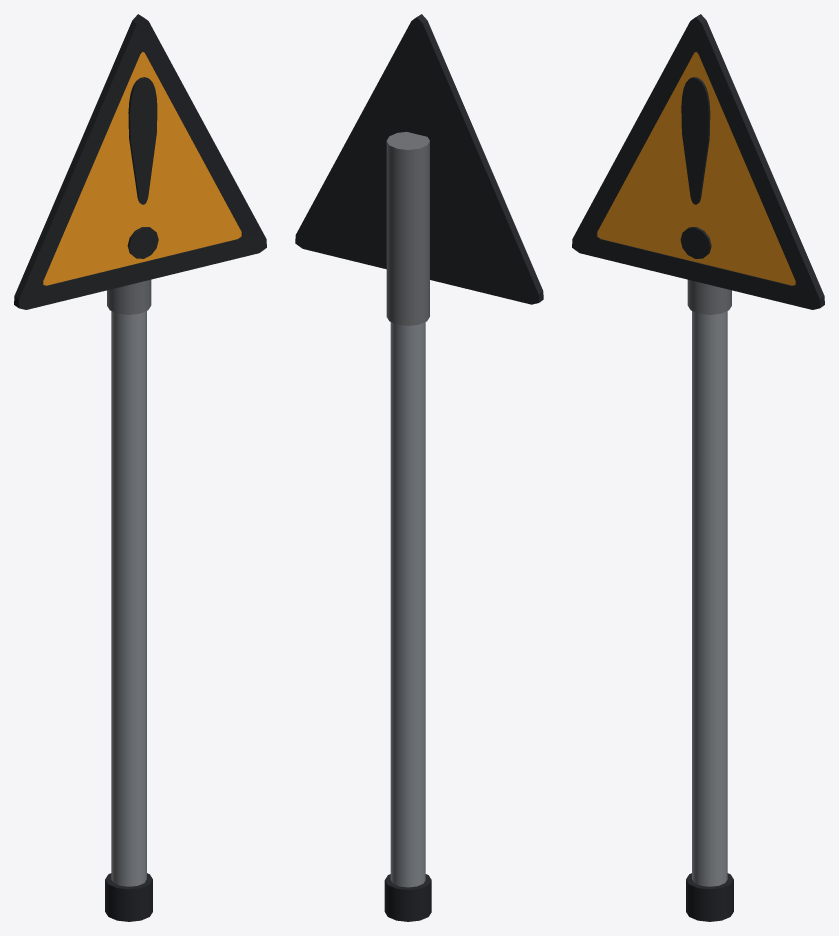
The model's file is TrafficSign_9.fbx.
3 views of the same model, side by side, from view 1: azimuth 30°, elevation 25°; view 2: azimuth 150°, elevation 25°; view 3: azimuth 330°, elevation 25° (orthographic).
Parts seen in each view (by area): view 1: TrafficSign_9; view 2: TrafficSign_9; view 3: TrafficSign_9.
Boxes of the visible parts, x1,y1,x2,y2 form: TrafficSign_9: (14,14,266,921); TrafficSign_9: (295,14,543,921); TrafficSign_9: (572,14,824,921).
Size of the model in its own units: 60.54 by 211 by 11.29.
